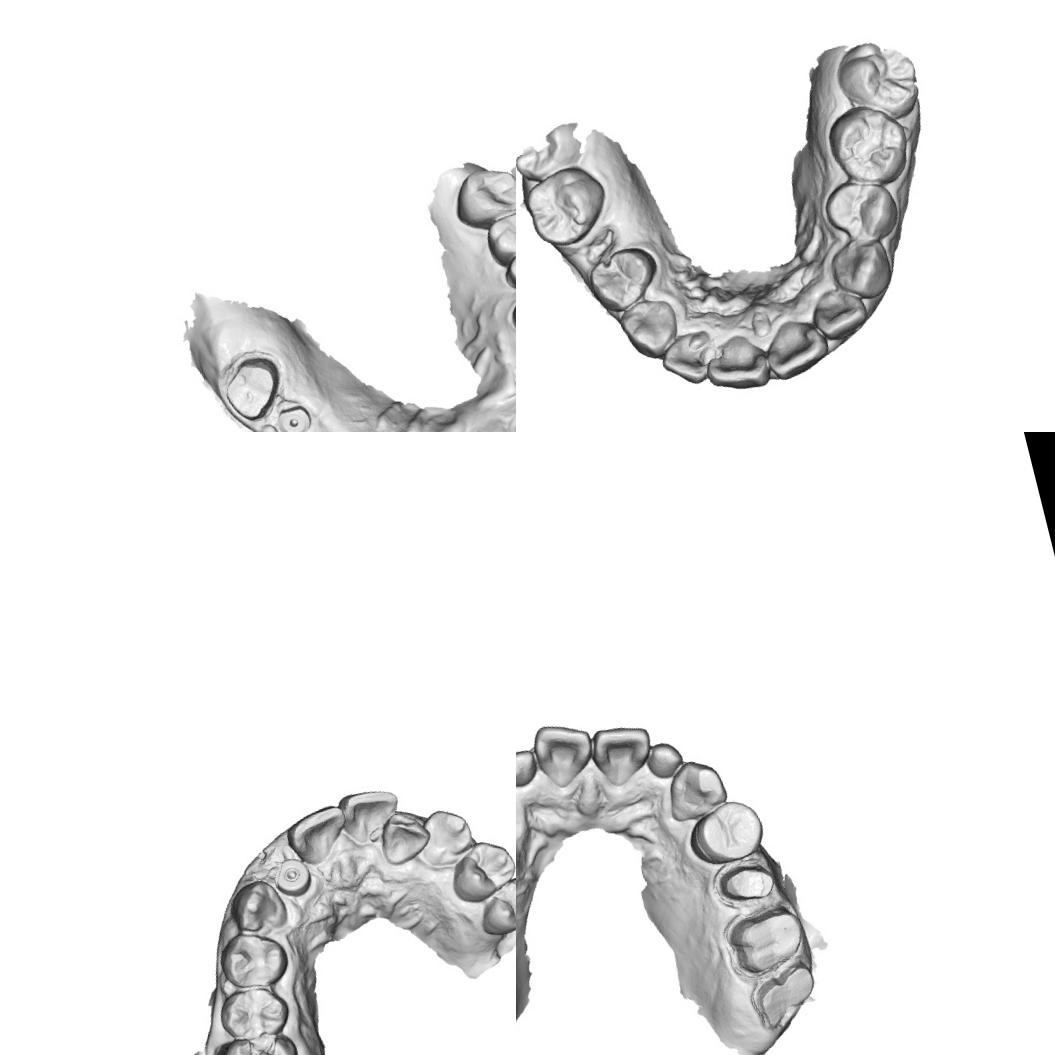canine: (658, 752, 732, 824), (825, 233, 897, 305), (614, 292, 684, 366), (220, 870, 288, 941), (414, 801, 478, 865)
crown: (719, 897, 810, 984), (216, 348, 290, 428), (707, 850, 781, 914)
implant: (270, 854, 312, 897), (272, 400, 316, 432)
incisor: (584, 716, 660, 792), (528, 714, 600, 792), (758, 315, 834, 385), (696, 334, 774, 400), (280, 801, 353, 870), (334, 783, 404, 852), (371, 803, 435, 870), (656, 327, 721, 390), (807, 282, 870, 345), (642, 736, 688, 782), (516, 743, 542, 791)
molar: (829, 29, 926, 132), (516, 158, 618, 254), (823, 98, 913, 190), (446, 157, 516, 234), (210, 1024, 309, 1055), (481, 204, 516, 266)
premolar: (680, 792, 770, 870), (581, 238, 666, 316), (820, 171, 905, 248), (212, 922, 292, 994), (443, 833, 516, 907), (214, 979, 291, 1045), (473, 869, 516, 940), (499, 240, 516, 291)
